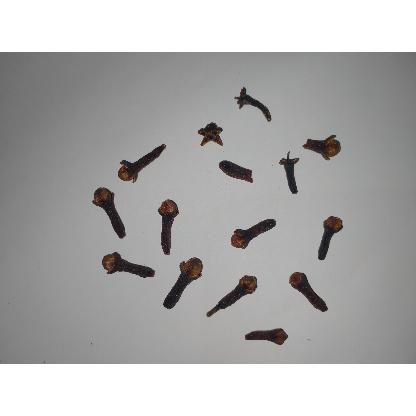baik: (161, 258, 204, 311), (116, 145, 166, 184), (93, 188, 126, 240), (228, 219, 276, 251), (99, 253, 155, 279), (157, 199, 180, 256)
buruk: (235, 88, 272, 122), (301, 135, 344, 162), (277, 149, 300, 195), (219, 160, 254, 183), (197, 123, 224, 147)
sedang: (287, 272, 328, 313), (218, 275, 258, 309), (318, 216, 345, 262), (245, 329, 289, 347)
